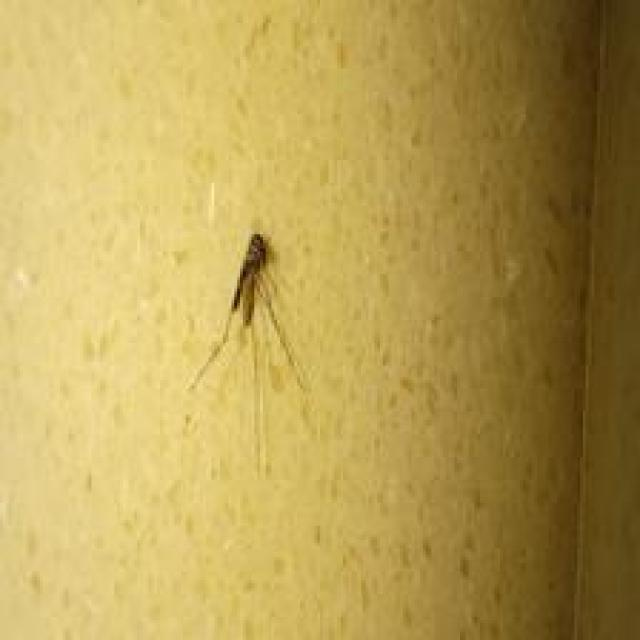Aedes albopictus: (184, 232, 316, 474)
